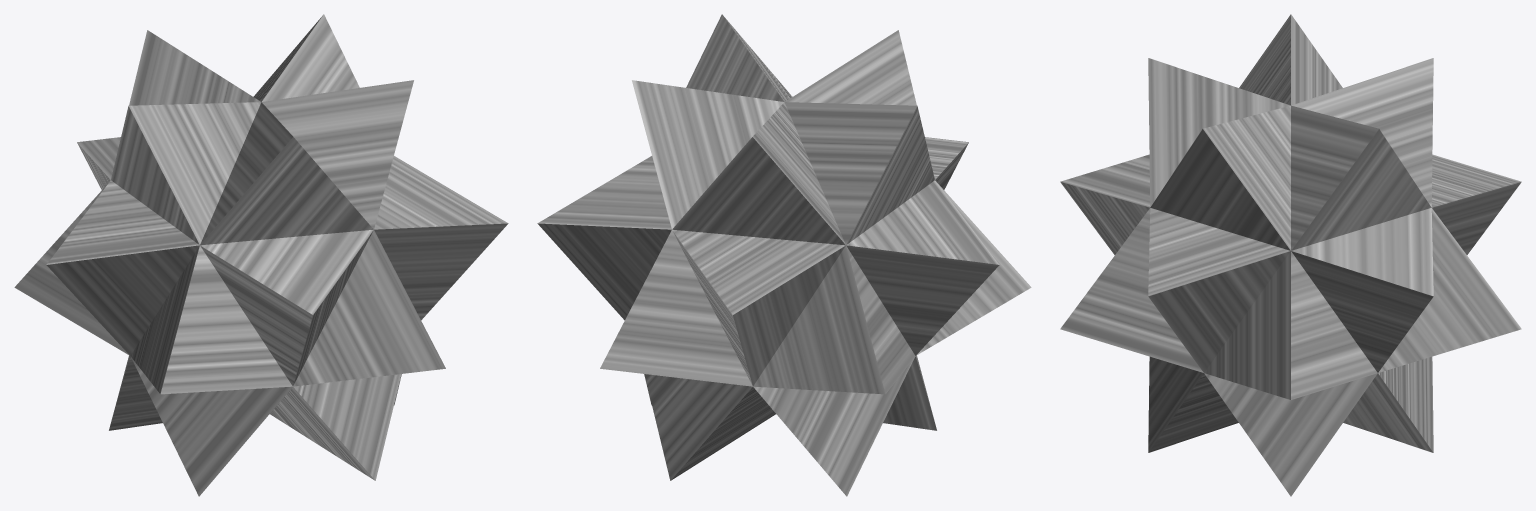
Rendered from Spike.fbx.
3 views of the same model, side by side, from view 1: azimuth 30°, elevation 25°; view 2: azimuth 150°, elevation 25°; view 3: azimuth 270°, elevation 25° (orthographic). The views are drawn at different scales.
Parts seen in each view (by area): view 1: Spike!; view 2: Spike!; view 3: Spike!.
Part boxes in pixels (x1=…): Spike!: x1=14, y1=14, x2=508, y2=496; Spike!: x1=537, y1=14, x2=1031, y2=496; Spike!: x1=1060, y1=14, x2=1521, y2=496.
Bounding box in the file's own units: 294 × 238 × 279.
